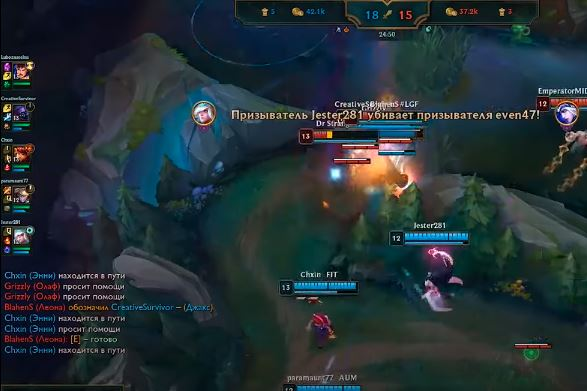bar: (336, 107, 424, 126), (388, 230, 472, 248), (335, 124, 425, 140), (278, 280, 360, 297), (279, 383, 365, 390)
dog: (298, 126, 381, 145), (536, 94, 587, 112)
